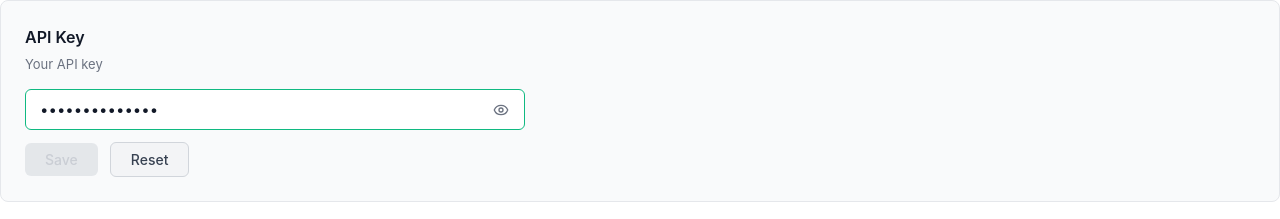
Test: SettingItem › Password Input Type › toggles password visibility when toggle button is clicked
What coordinates should you click on to do the following:
click the button named "show"
I would click on:
 (501, 110)
Its box is x1=487 y1=96 x2=515 y2=124.
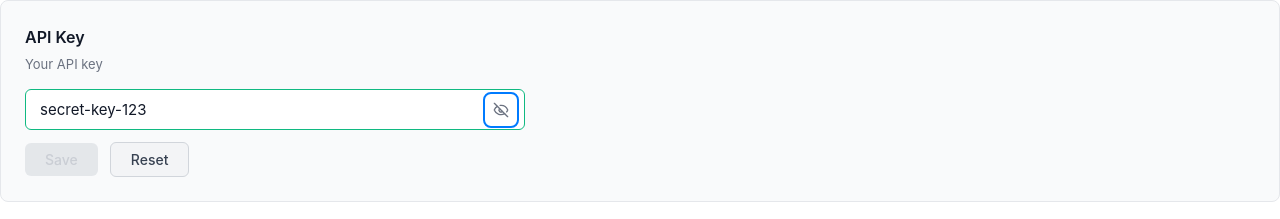
Expected: the field showing "secret-key-123" shows its text, x1=25 y1=89 x2=525 y2=130
